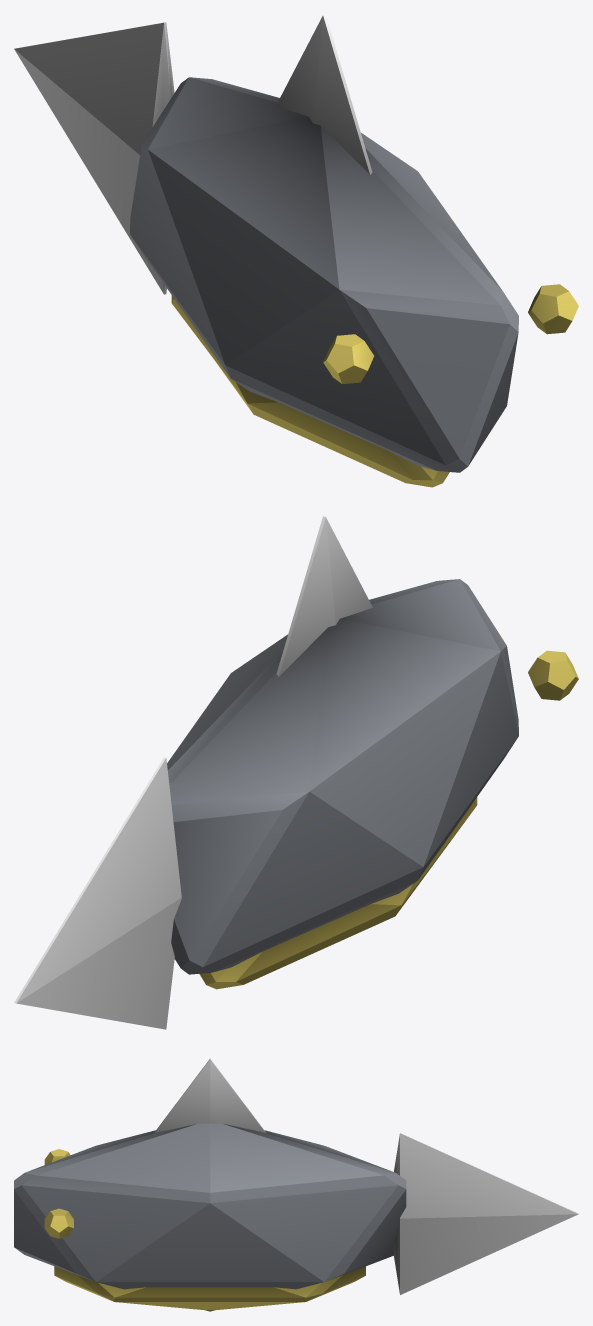
Rendered from FishOil.fbx.
The picture shows the model from 3 angles, top to bottom: view 1: azimuth 30°, elevation 25°; view 2: azimuth 150°, elevation 25°; view 3: azimuth 270°, elevation 25°; orthographic projection. The views are drawn at different scales.
Visible parts, largest first — view 1: Body; view 2: Body; view 3: Body.
Boxes of the visible parts, x1,y1,x2,y2 form: Body: (14,14,578,487); Body: (14,516,578,1029); Body: (14,1058,578,1311).
Size of the model in its own units: 0.2182 by 0.3528 by 0.7188.
